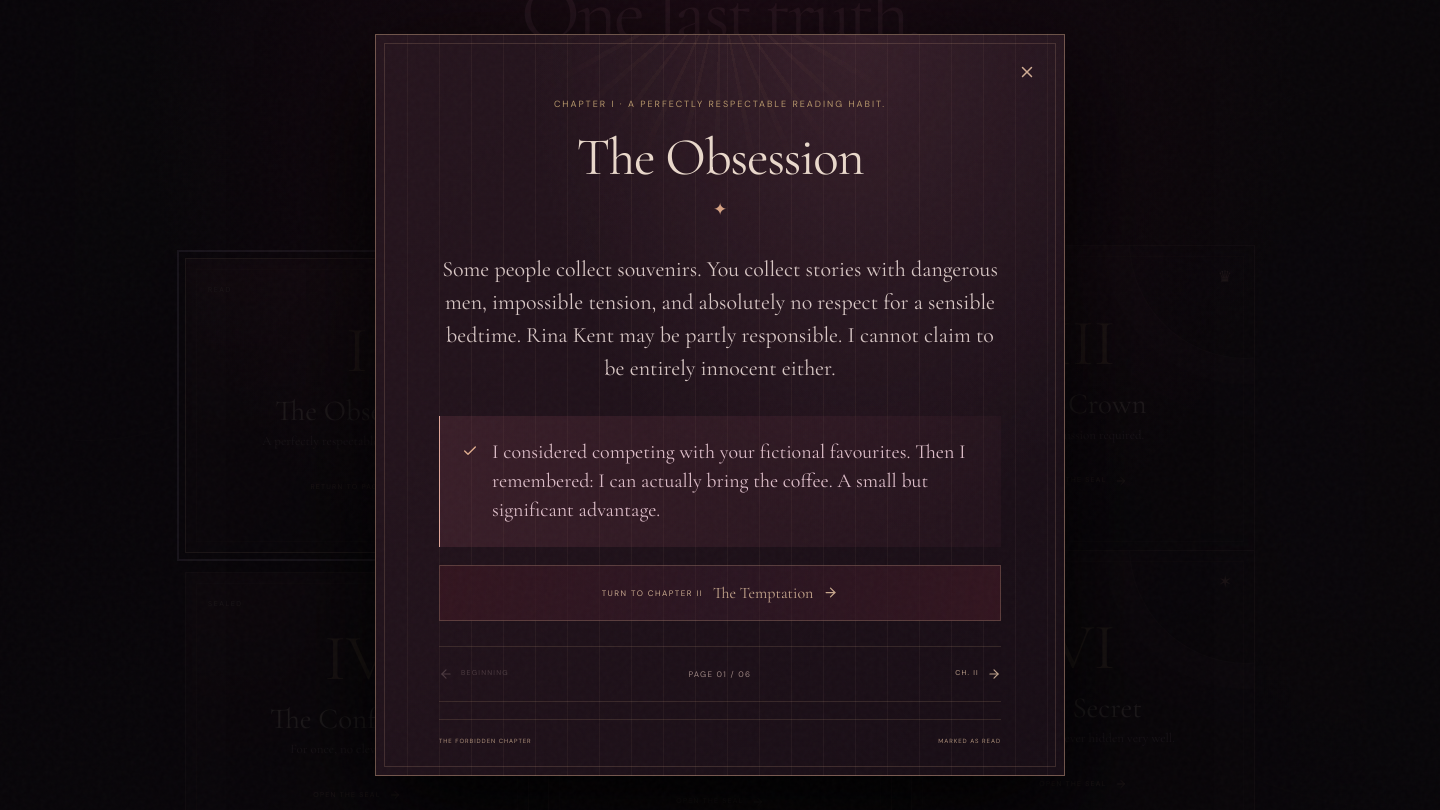
Test: real story interface › lets the reader turn directly between chapters without returning to the archive
Earlier steps of the test are not shown.
(page scrolled)
Expected: the heading "The Obsession" is shown, [577,125,863,189]
Click the button "CH. II".
click(978, 674)  # box [955,662,1001,686]
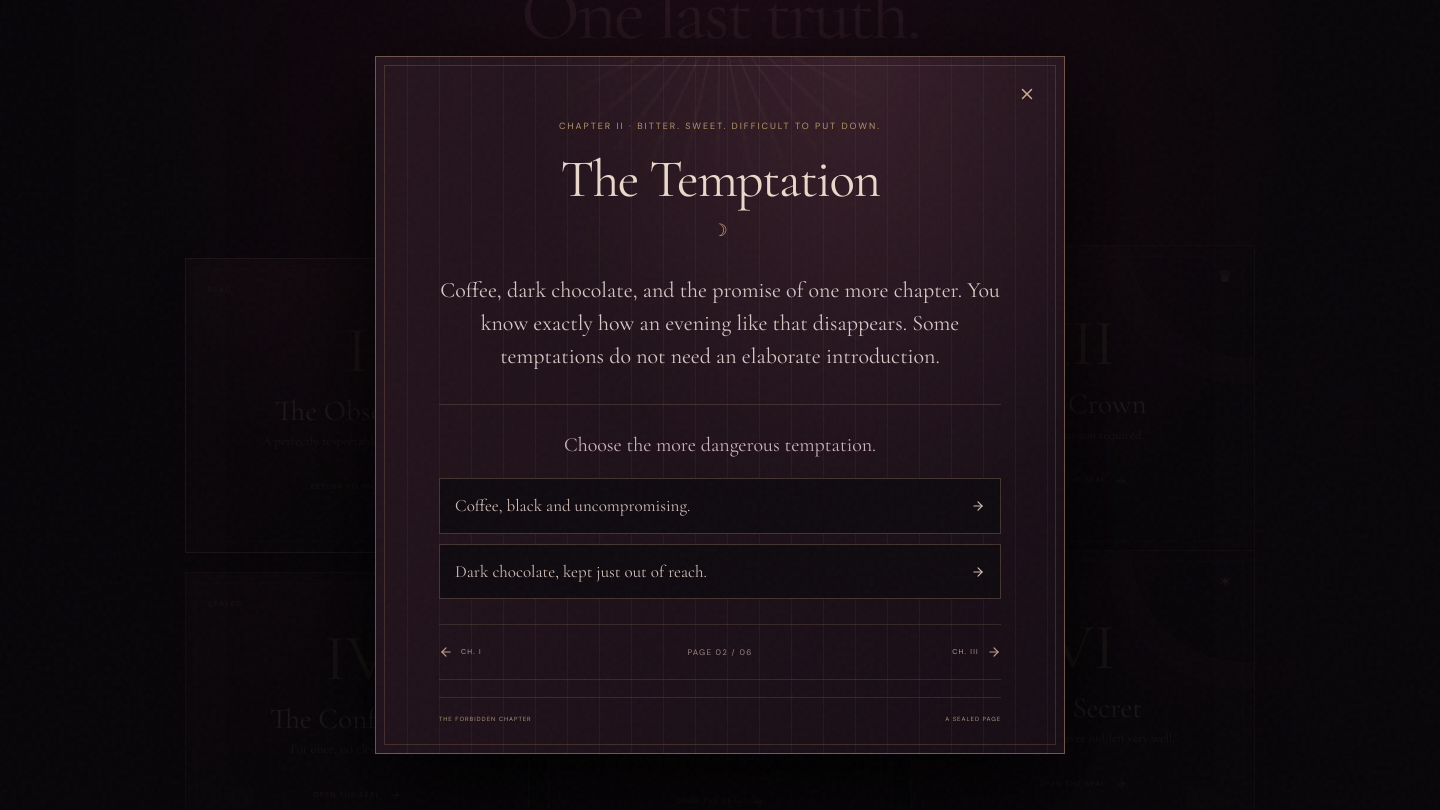
Now the heading "The Temptation" is shown, box [560,146,880,210]
Click the button "CH. I".
click(460, 652)  # box [439,640,482,664]
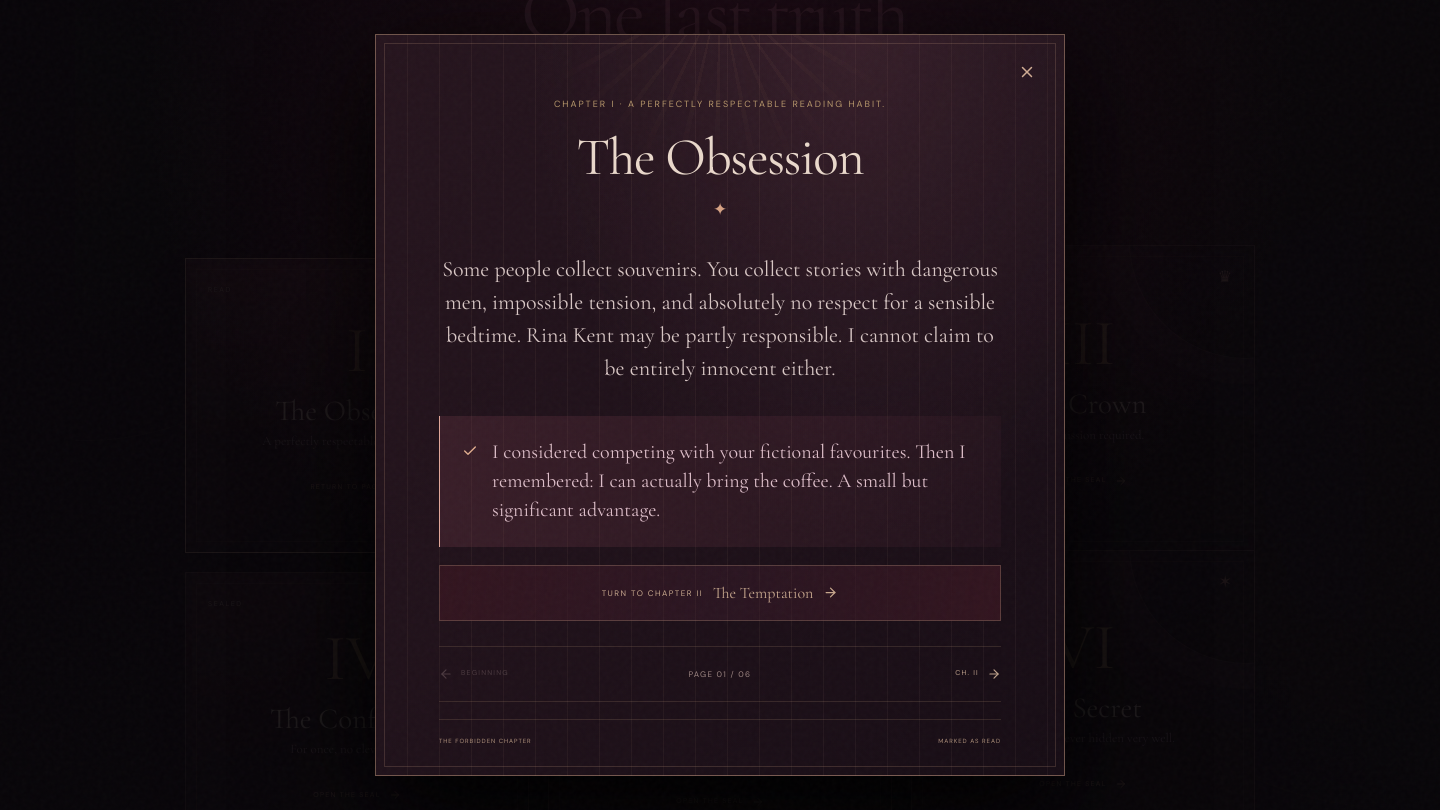
Now the heading "The Obsession" is shown, box [577,125,863,189]
